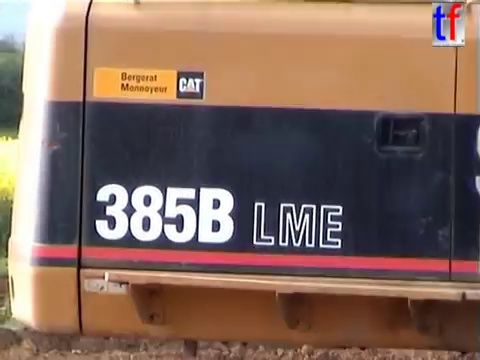excavator: (4, 1, 480, 355)
